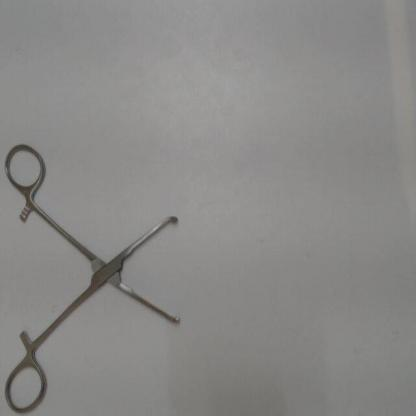Allis Tissue Forceps: (2, 137, 190, 414)
